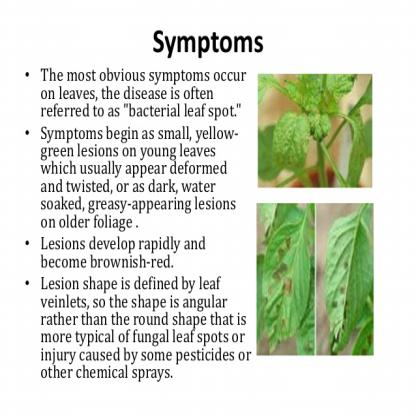tomato leaf bacterial spot: (323, 205, 371, 348), (263, 207, 310, 347), (272, 114, 313, 179)
